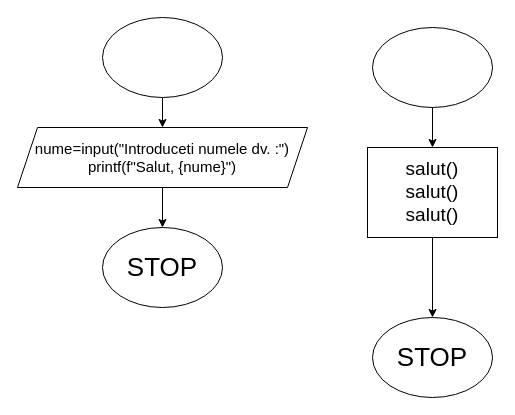
This 515x415 diagram has some shape labels left out. Here are the shapes that lost their labels. From the top down, the centre of each, then its label:
At point (162, 57): "def salut()".
At point (432, 67): "START".
